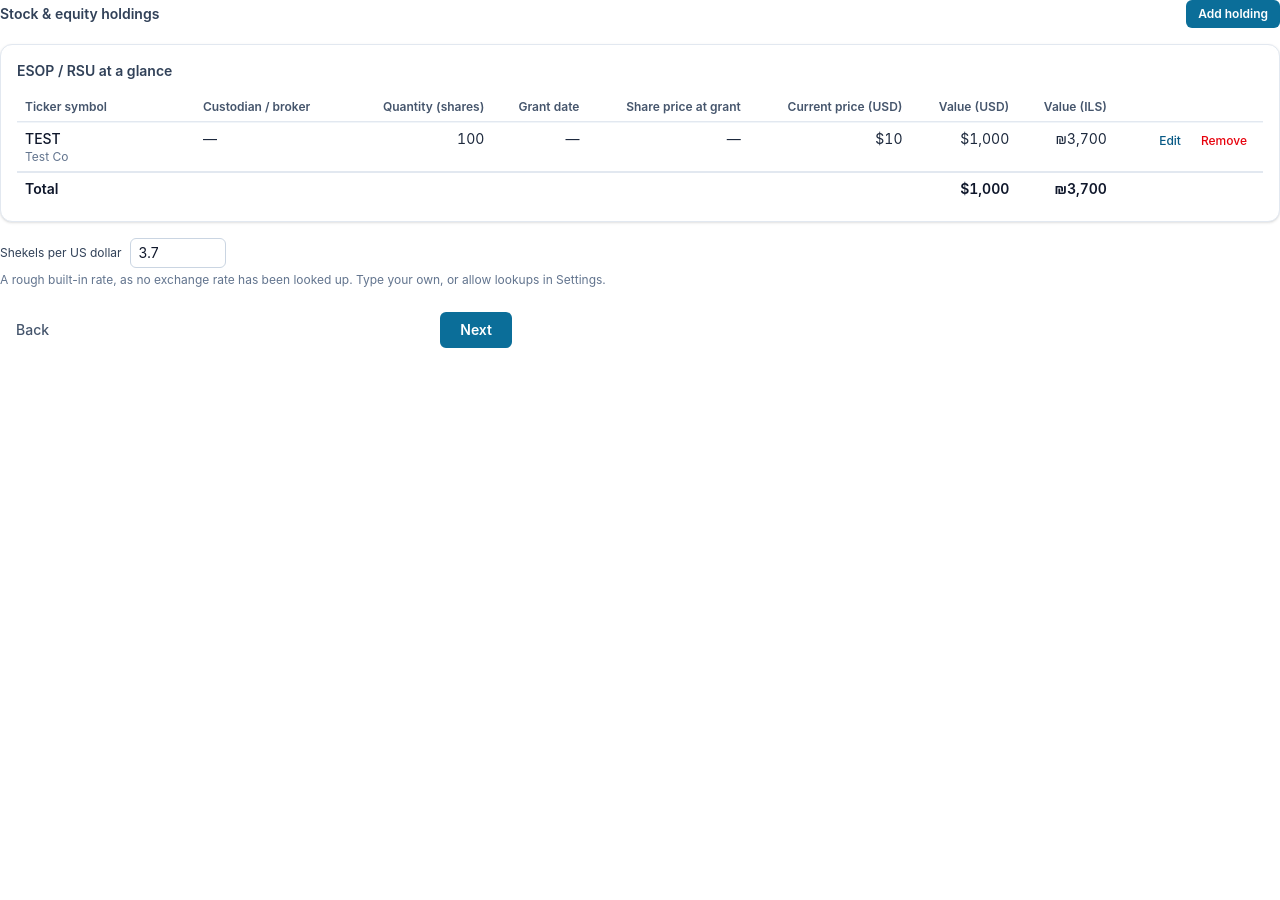
Scenario: EquityStep — simple purchase / grant entry › opens the advanced details when the holding already has some
Click the button "Edit": (1170,141) [1151,129,1189,153]
(page scrolled)
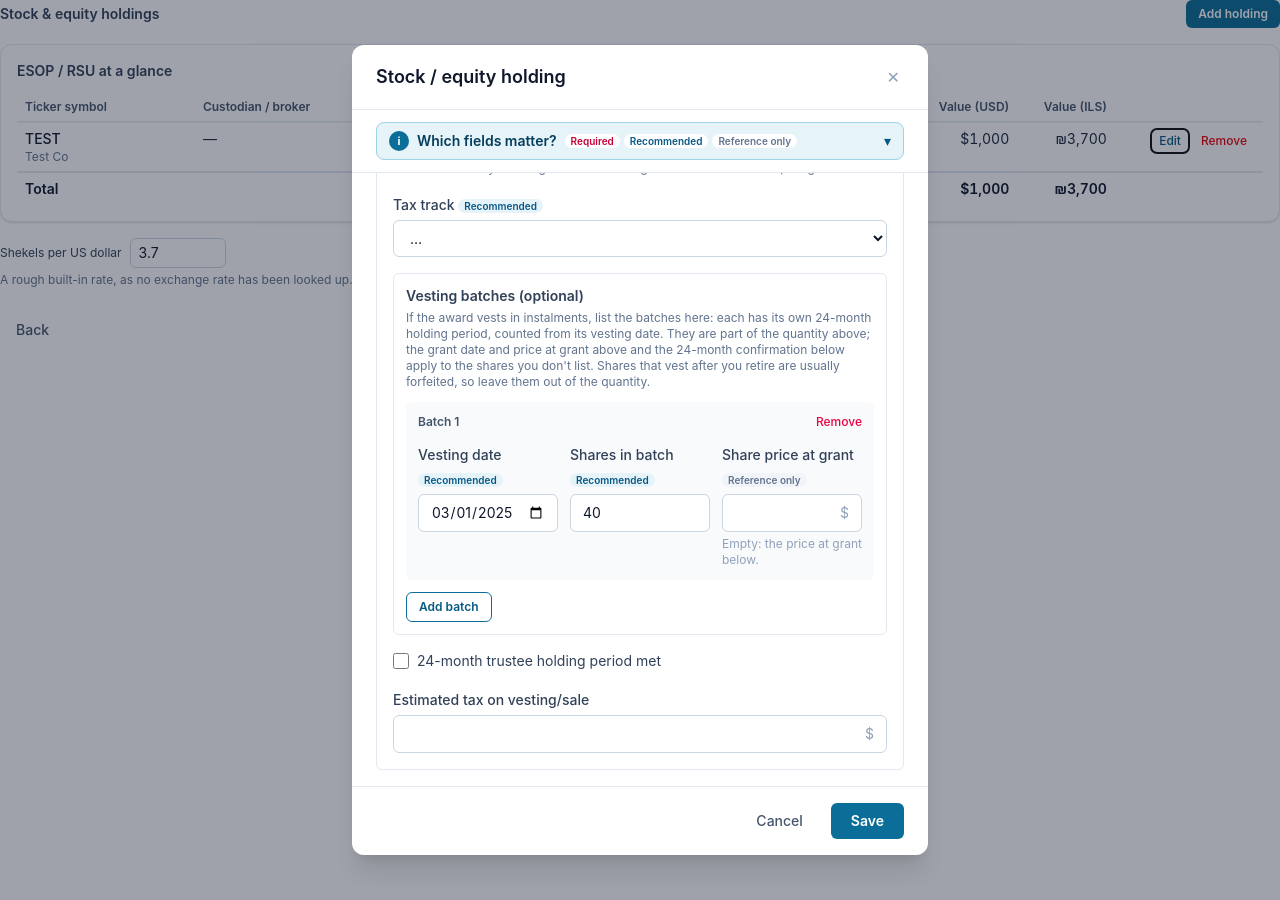
Check: the button "Add batch" is shown, box [406,592,492,622]
